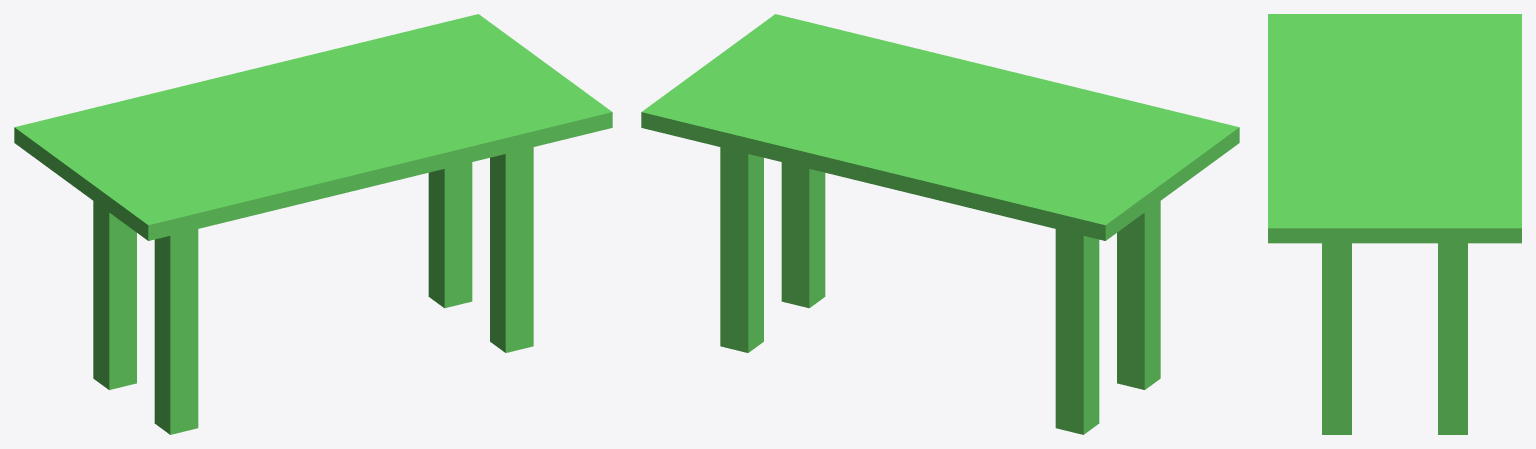
Rendered from tableV2.fbx.
The picture shows the model from 3 angles, left to right: view 1: azimuth 30°, elevation 25°; view 2: azimuth 150°, elevation 25°; view 3: azimuth 270°, elevation 25°; orthographic projection. The views are drawn at different scales.
Parts seen in each view (by area): view 1: Cube; view 2: Cube; view 3: Cube.
Part boxes in pixels (<box>): Cube: <box>14,14,612,434</box>; Cube: <box>641,14,1239,434</box>; Cube: <box>1268,14,1521,434</box>.
Bounding box in the file's own units: 140 × 70 × 70.
